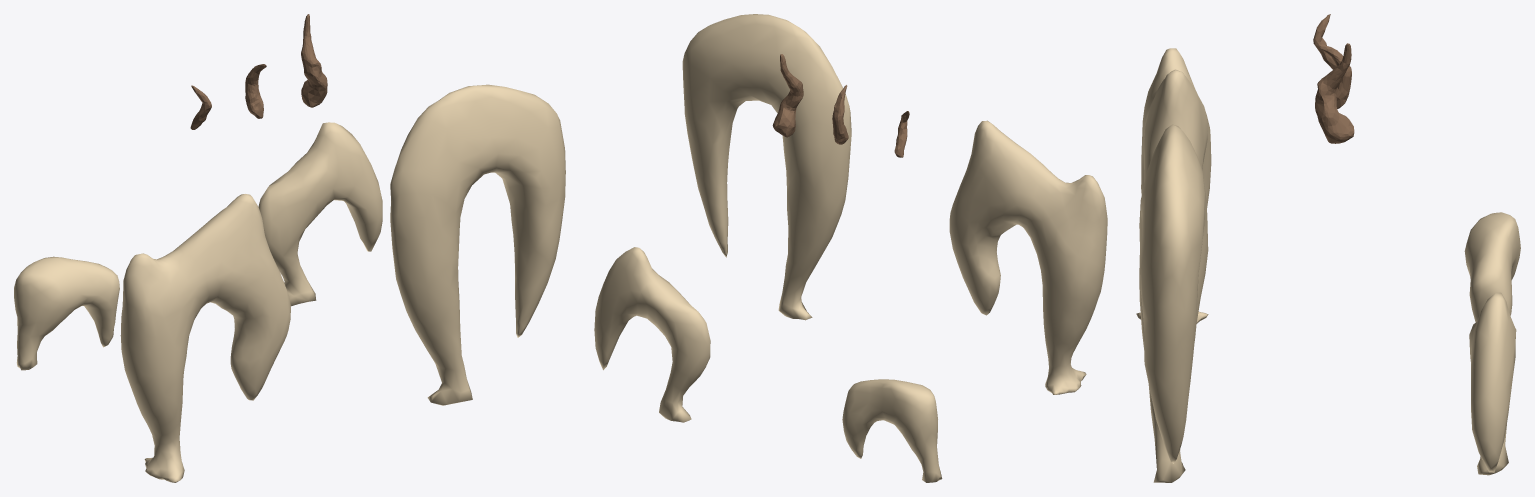
File: Knugian Tree.dae
The picture shows the model from 3 angles, left to right: view 1: azimuth 30°, elevation 25°; view 2: azimuth 150°, elevation 25°; view 3: azimuth 270°, elevation 25°; orthographic projection. The views are drawn at different scales.
Parts seen in each view (by area): view 1: KnugianTree4, KnugianTree1, KnugianTree3, KnugianTree2, KnugianRoot1, KnugianRoot2; view 2: KnugianTree4, KnugianTree1, KnugianTree3, KnugianTree2, KnugianRoot1, KnugianRoot2; view 3: KnugianTree4, KnugianTree3, KnugianTree1, KnugianTree2, KnugianRoot1, KnugianRoot2, KnugianRoot3.
Boxes of the visible parts, box(x1,y1,x2,y2) form: KnugianTree4: box(390, 84, 565, 405); KnugianTree1: box(120, 194, 290, 482); KnugianTree3: box(258, 122, 382, 306); KnugianTree2: box(14, 256, 119, 370); KnugianRoot1: box(301, 14, 327, 107); KnugianRoot2: box(245, 64, 266, 118); KnugianTree4: box(682, 14, 851, 320); KnugianTree1: box(949, 120, 1107, 394); KnugianTree3: box(594, 247, 710, 422); KnugianTree2: box(842, 379, 942, 482); KnugianRoot1: box(772, 54, 803, 137); KnugianRoot2: box(832, 85, 848, 144); KnugianTree4: box(1139, 124, 1208, 482); KnugianTree3: box(1469, 292, 1516, 475); KnugianTree1: box(1136, 48, 1211, 323); KnugianTree2: box(1464, 212, 1520, 322); KnugianRoot1: box(1315, 43, 1354, 143); KnugianRoot2: box(1318, 44, 1351, 108); KnugianRoot3: box(1313, 14, 1336, 69).
Size of the model in its own units: 14.6 by 9.65 by 11.19.
